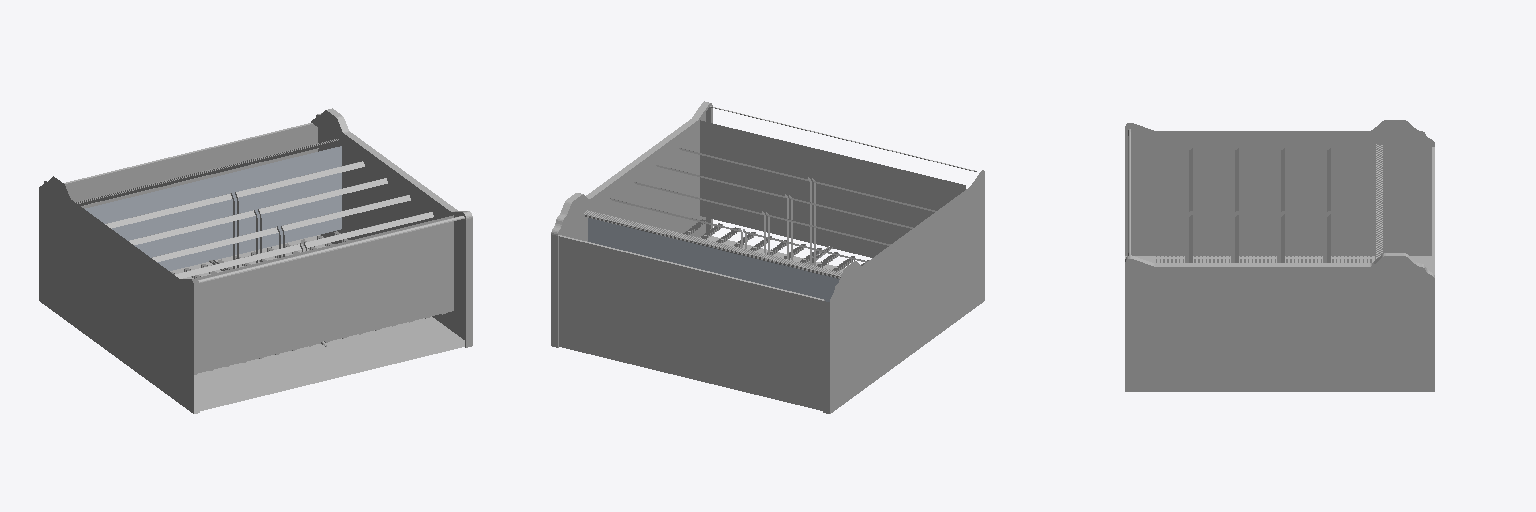
Rendered from egg_shelf.obj.
3 views of the same model, side by side, from view 1: azimuth 30°, elevation 25°; view 2: azimuth 150°, elevation 25°; view 3: azimuth 270°, elevation 25° (orthographic).
Parts seen in each view (by area): view 1: milk_multideck_cabinet_with_curtain; view 2: milk_multideck_cabinet_with_curtain; view 3: milk_multideck_cabinet_with_curtain.
Boxes of the visible parts, box(x1,y1,x2,y2) form: milk_multideck_cabinet_with_curtain: box(39, 108, 472, 413); milk_multideck_cabinet_with_curtain: box(551, 101, 984, 413); milk_multideck_cabinet_with_curtain: box(1125, 120, 1434, 391).
Size of the model in its own units: 2.1 by 0.975 by 2.02.